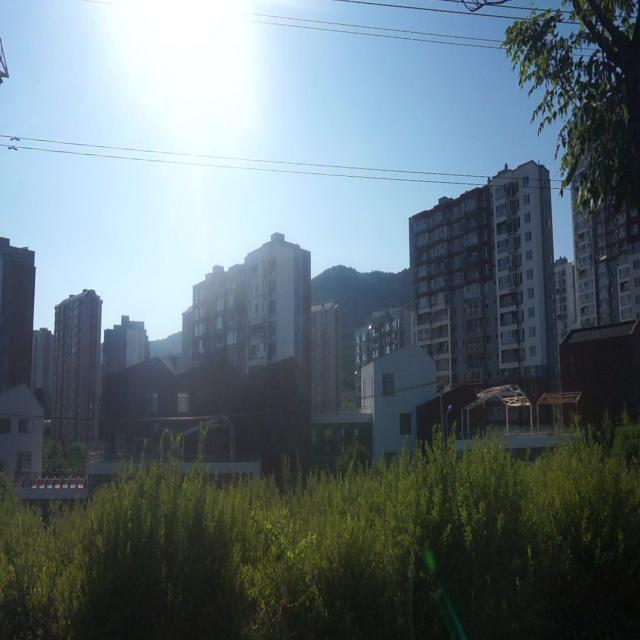UAV: (400, 320, 406, 324)
